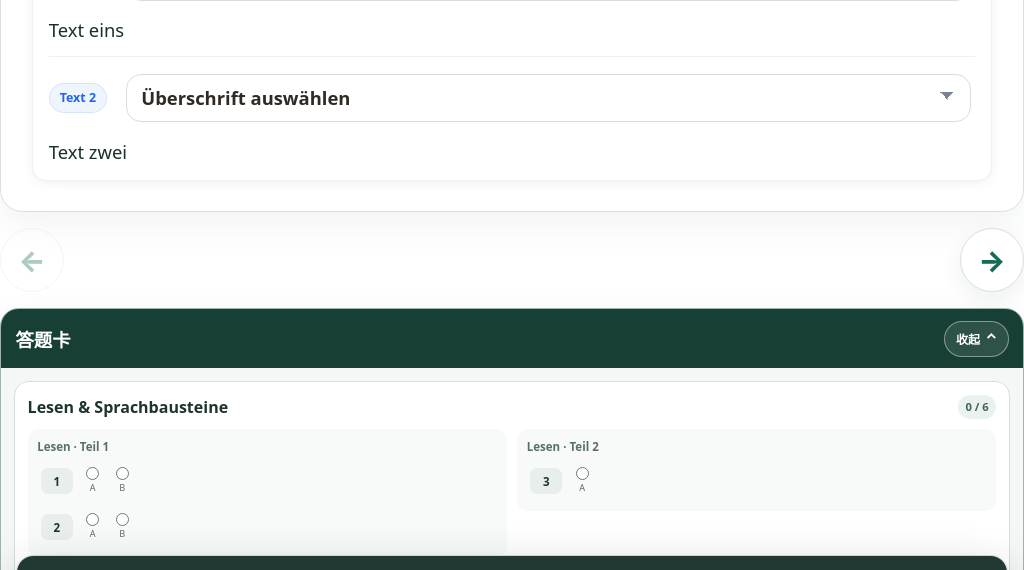
Test: mock exam exercise layout › moves between reading and Sprachbausteine parts without entering Hören
(page scrolled)
Expected: the button named "上一部分" is disabled, top-left (0, 228), bottom-right (64, 292)
Step 1. Click the button named "下一部分" → point(992, 260), box top-left (960, 228), bottom-right (1023, 292)
(page scrolled)
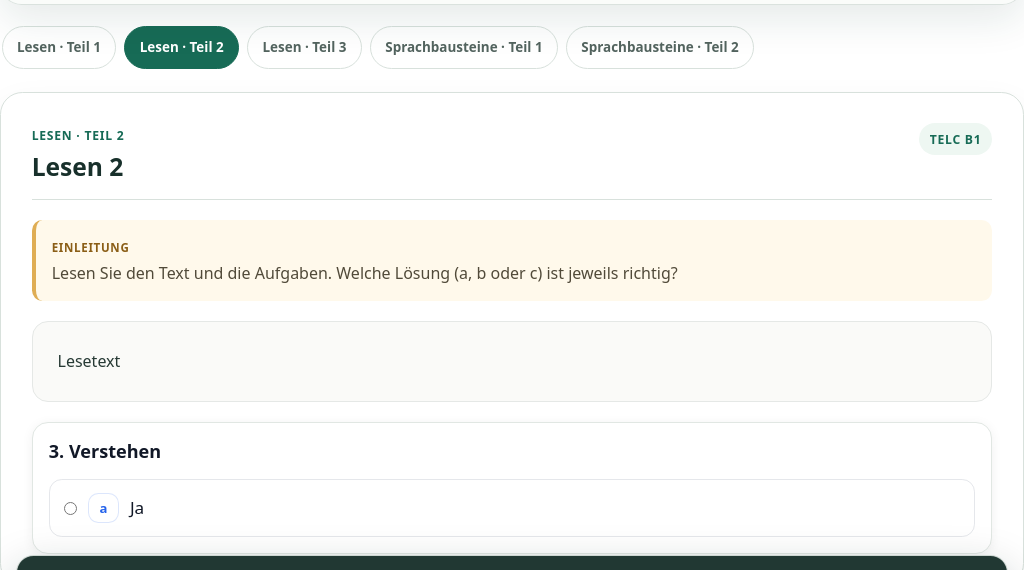
Expected: the heading "3. Verstehen" is shown, top-left (49, 439), bottom-right (161, 463)
Step 2. Click the button "Sprachbausteine · Teil 2" → point(660, 47), box top-left (566, 26), bottom-right (754, 69)
(page scrolled)
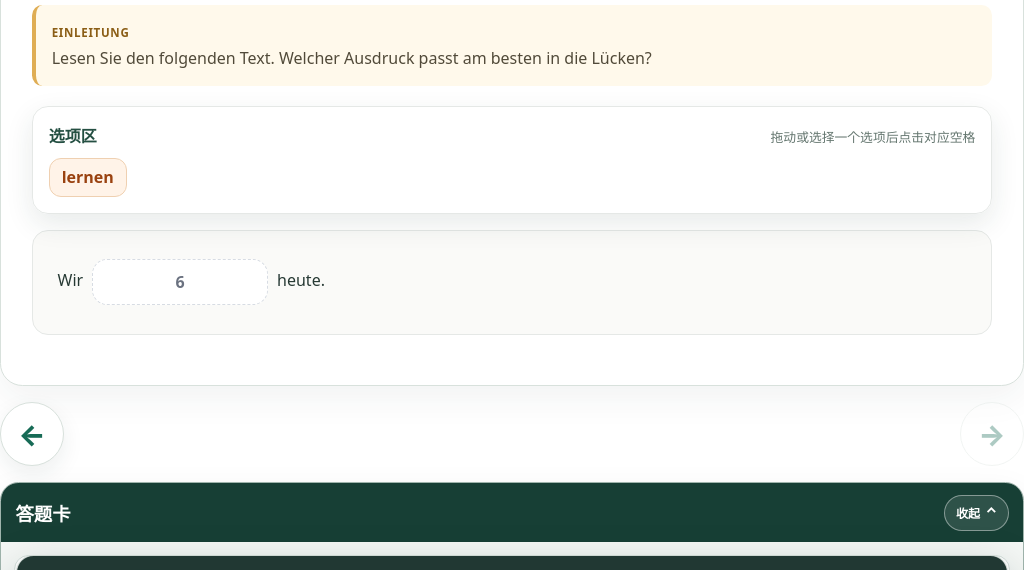
Expected: the button named "下一部分" is disabled, top-left (960, 402), bottom-right (1023, 466)
